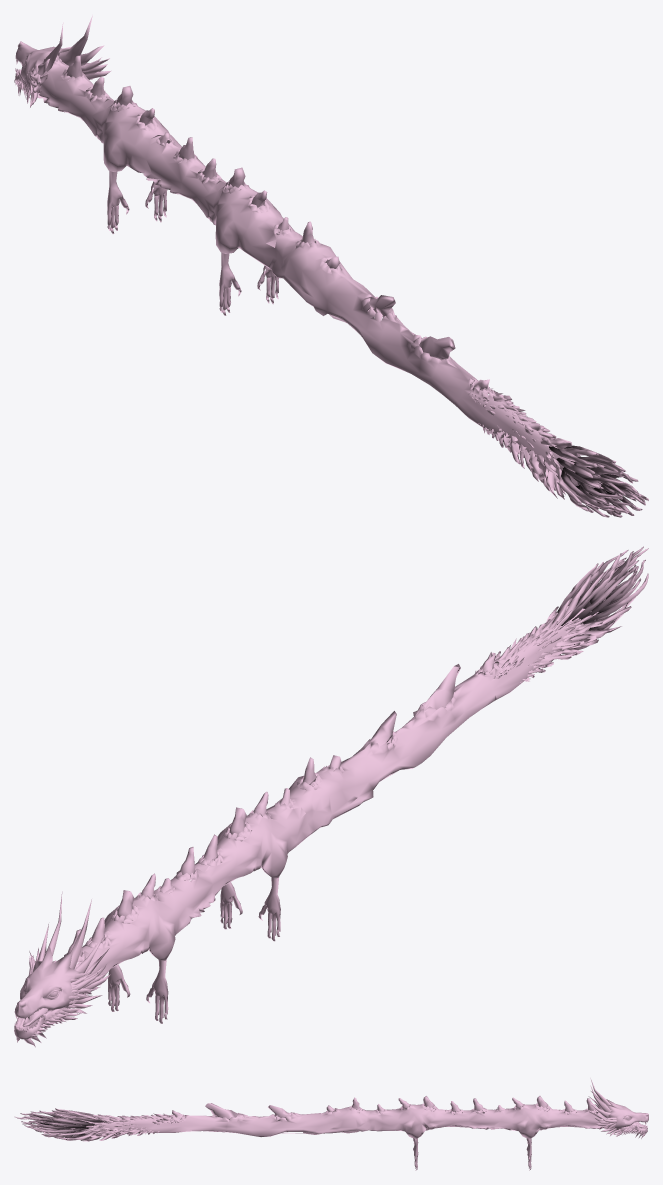
The model's file is dragonwaltersstudio_low.glb.
The picture shows the model from 3 angles, top to bottom: view 1: azimuth 30°, elevation 25°; view 2: azimuth 150°, elevation 25°; view 3: azimuth 270°, elevation 25°; orthographic projection. The views are drawn at different scales.
Parts seen in each view (by area): view 1: eyes; view 2: eyes; view 3: eyes.
Boxes of the visible parts, x1,y1,x2,y2 form: eyes: (14, 15, 648, 517); eyes: (14, 546, 648, 1047); eyes: (14, 1078, 648, 1170).
Bounding box in the file's own units: 3.76 × 7.71 × 52.5.
